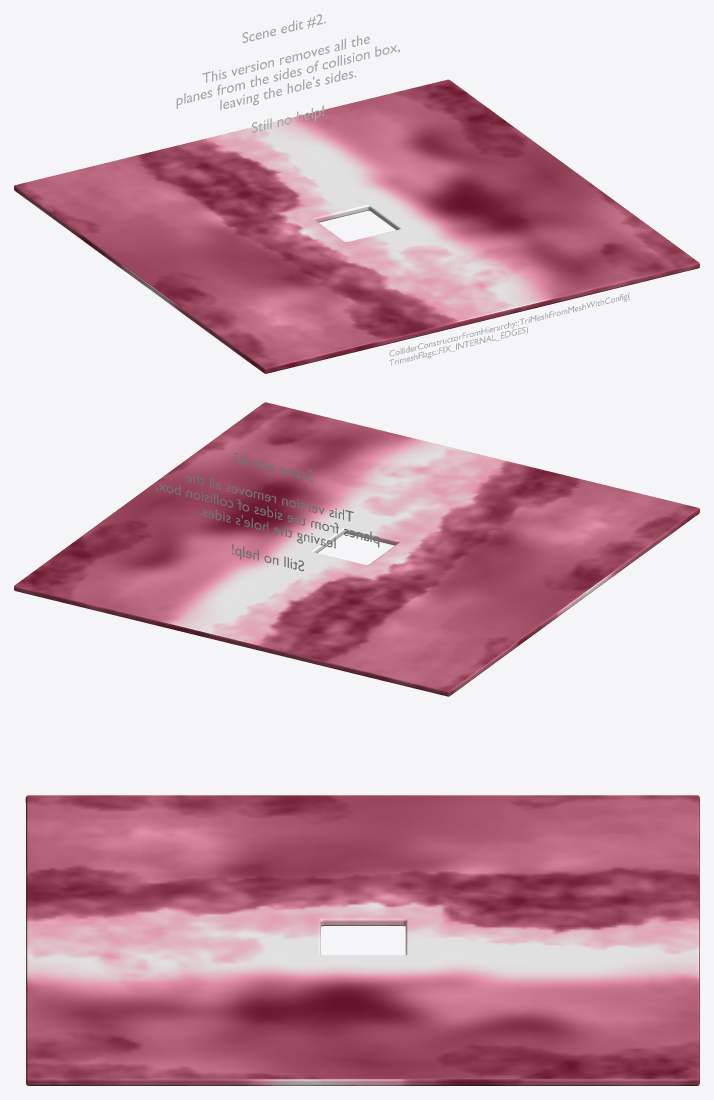
Rendered from level_0_edit_2.glb.
3 renders of one model, top to bottom at view 1: azimuth 30°, elevation 25°; view 2: azimuth 150°, elevation 25°; view 3: azimuth 270°, elevation 25°, orthographic. The views are drawn at different scales.
Visible parts, largest first — view 1: Floor.006, Text.007, Text.003; view 2: Floor.006, Text.007; view 3: Floor.006.
Boxes of the visible parts, x1=… form: Floor.006: x1=14, y1=79, x2=699, y2=373; Text.007: x1=176, y1=14, x2=399, y2=132; Text.003: x1=389, y1=292, x2=629, y2=365; Floor.006: x1=14, y1=402, x2=699, y2=696; Text.007: x1=156, y1=452, x2=379, y2=571; Floor.006: x1=25, y1=795, x2=699, y2=1085.
Size of what is drawn, in the model's own units: 29.71 by 10.88 by 30.24.
Materials: 2 (1 with a texture image).
